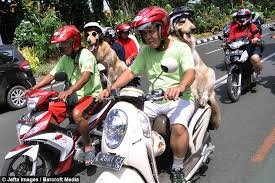helmet: (129, 3, 169, 53), (49, 21, 79, 55), (233, 6, 253, 28)
